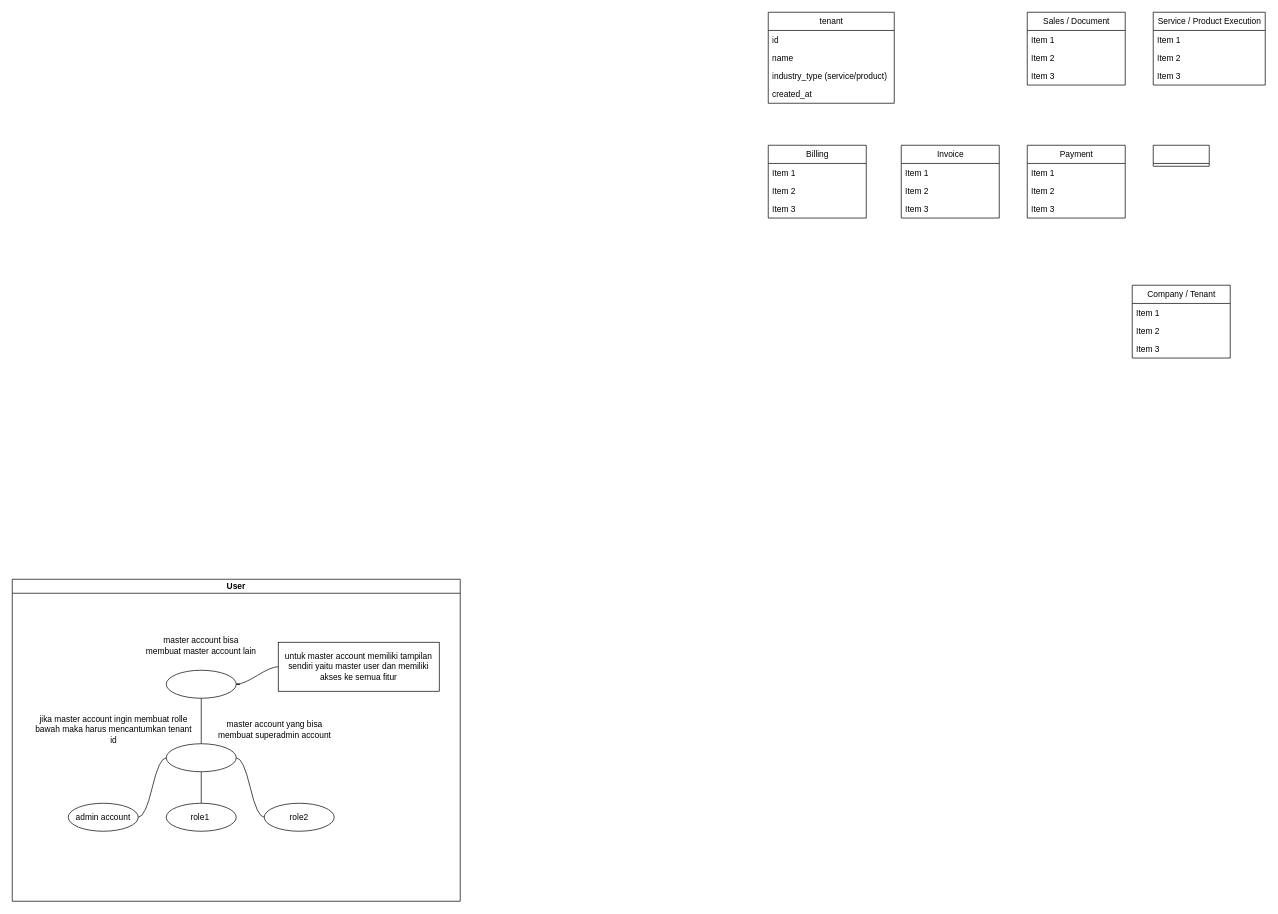
Image size: 1278x914. Some labels were removed from this diagram. Each missing label, with the centre of its shape:
Finance: pixel 1181 155
master account: pixel 201 684
superadmin account: pixel 201 757
